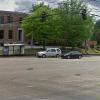Car: (34, 39, 84, 66)
